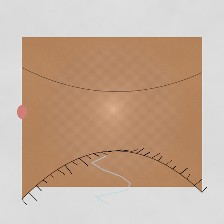foreign_body_visible: (69, 119, 98, 142)
